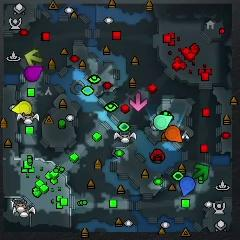p1: (180, 176, 195, 197)
p2: (153, 115, 173, 130)
p3: (23, 65, 43, 81)
p4: (11, 101, 32, 115)
p5: (164, 125, 183, 142)
x1: (130, 93, 147, 110)
x2: (24, 49, 43, 66)
x4: (193, 163, 210, 180)
